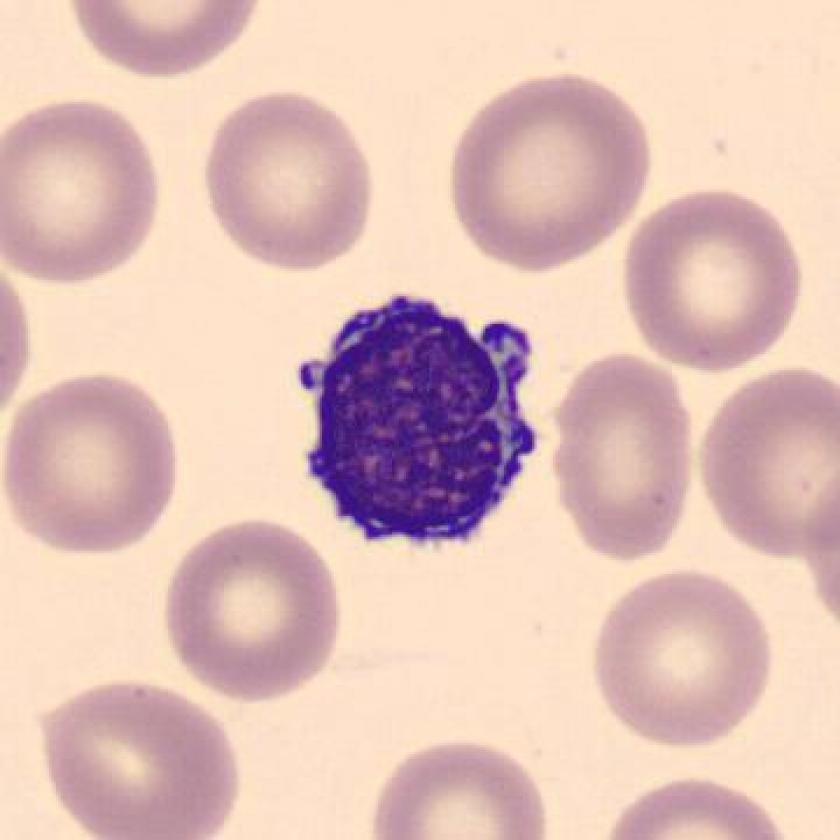lymphocyte: (281, 281, 554, 568)
